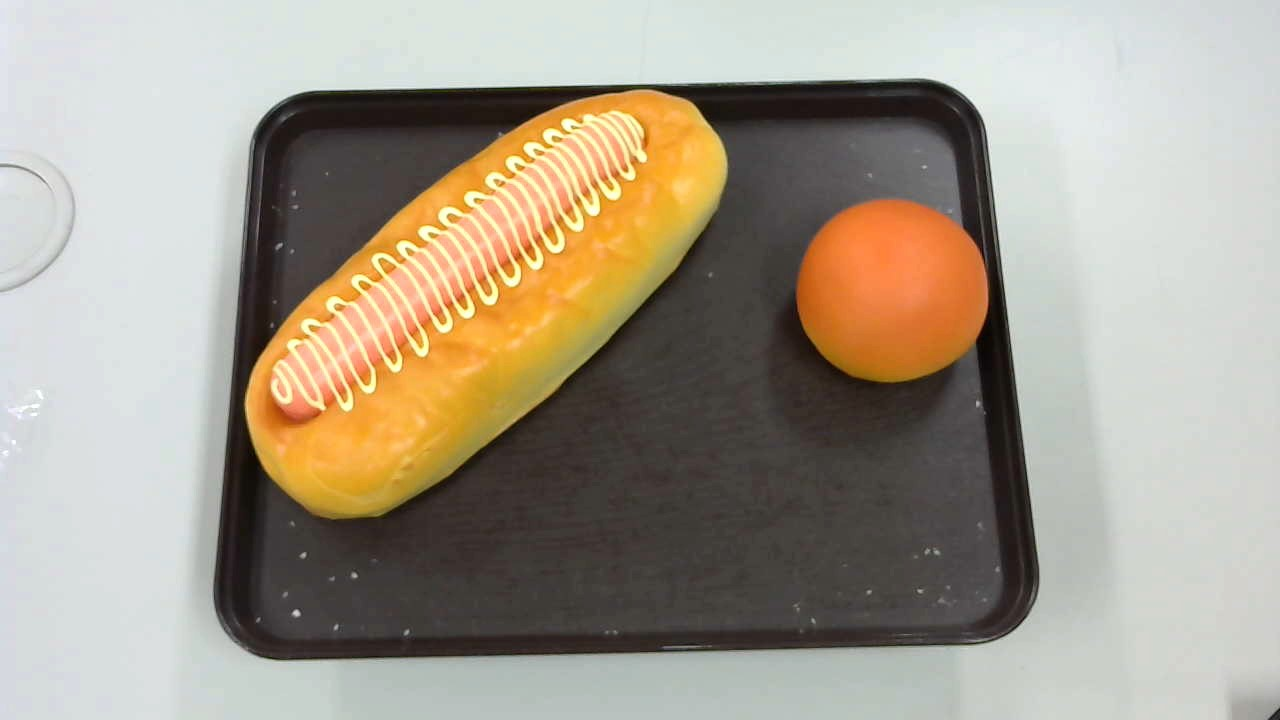bun: (796, 198, 989, 382)
hot dog: (244, 89, 727, 520)
